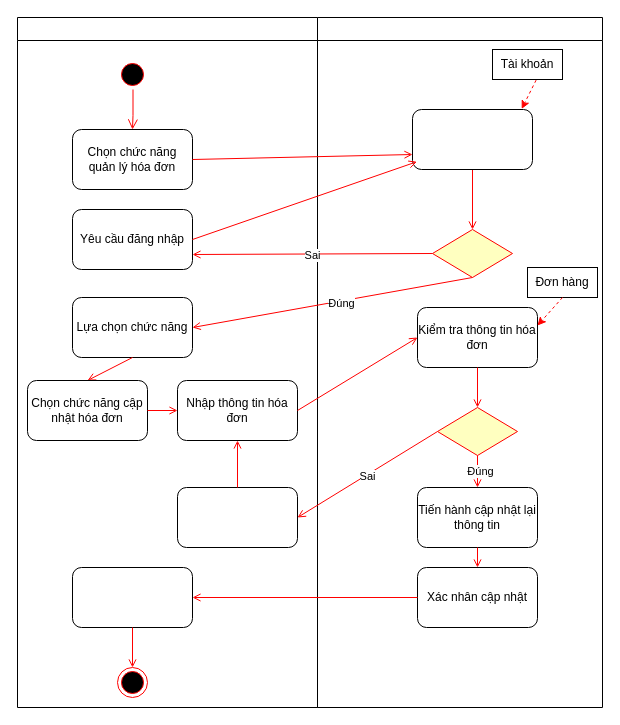
This 620x725 diagram has some shape labels left out. The box of each missing label's shape, as (x1, y1, x2, y2) in pixels:
Admin: (16, 16, 318, 708)
Hệ thống: (316, 16, 602, 708)
Kiểm tra đăng nhập: (412, 108, 532, 170)
Thông báo cập nhật thành công: (72, 566, 192, 628)
Thông báo lỗi, yêu cầu chỉnh sửa: (176, 486, 298, 548)
